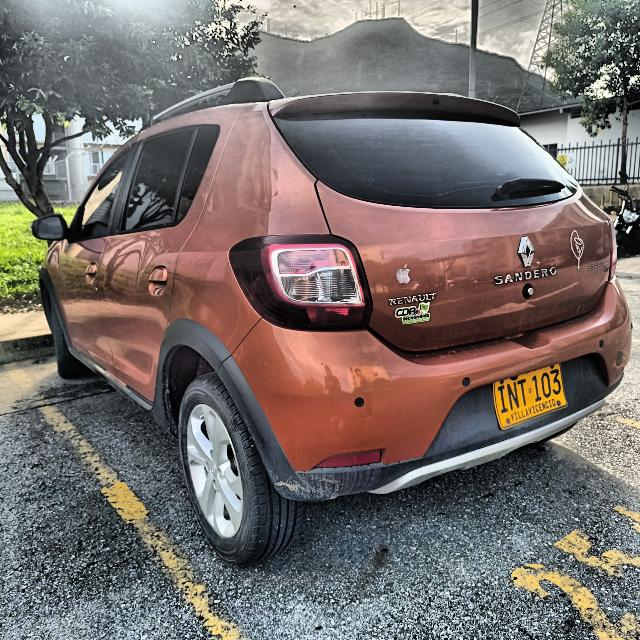plate: (494, 364, 567, 428)
